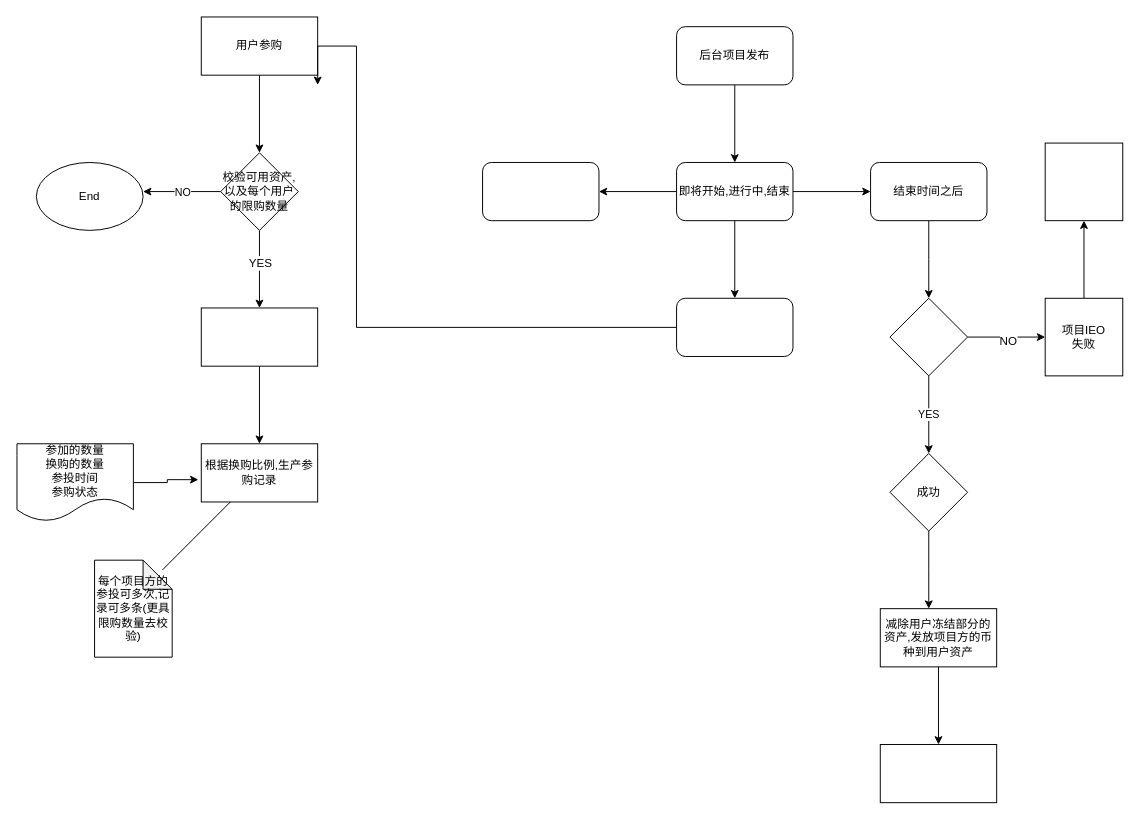
The diagram is 1140 pixels wide and 820 high, and some of its shapes have lost their labels. The centre of each missing label's shape, as x and y in pixels:
冻结资产: (x=259, y=336)
发布时间到开始时间期间: (x=540, y=191)
用户参投记录状态为成功: (x=938, y=773)
解冻用户的资产: (x=1083, y=181)
进行中: (x=734, y=326)
项目是否IEO 成功: (x=928, y=336)
